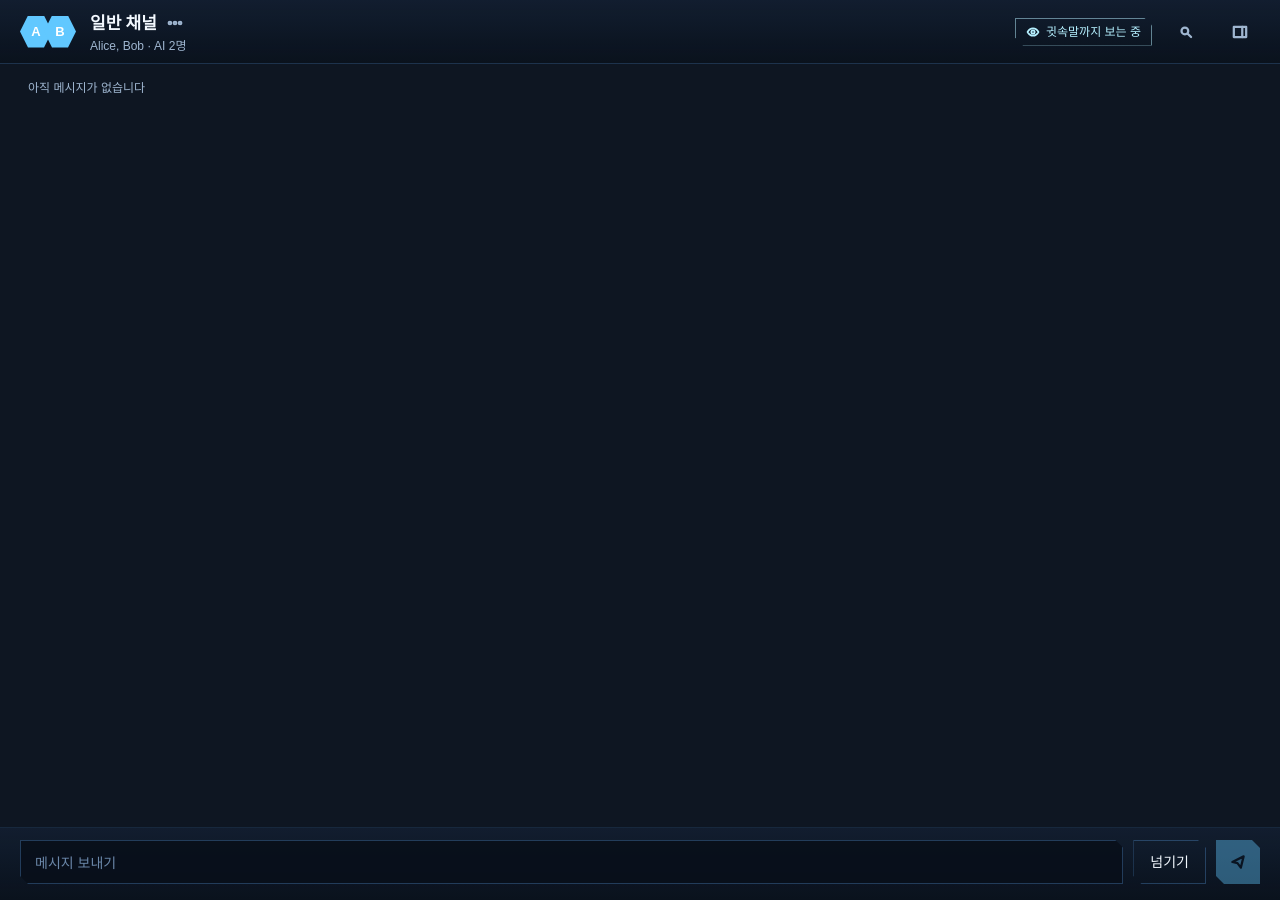
Scenario: pass button (F1) › explains a refusal for a channel without participants (QA m5)
Click the button with test id "chat-pass-turn".
click(1170, 862)  # box [1133, 840, 1206, 884]
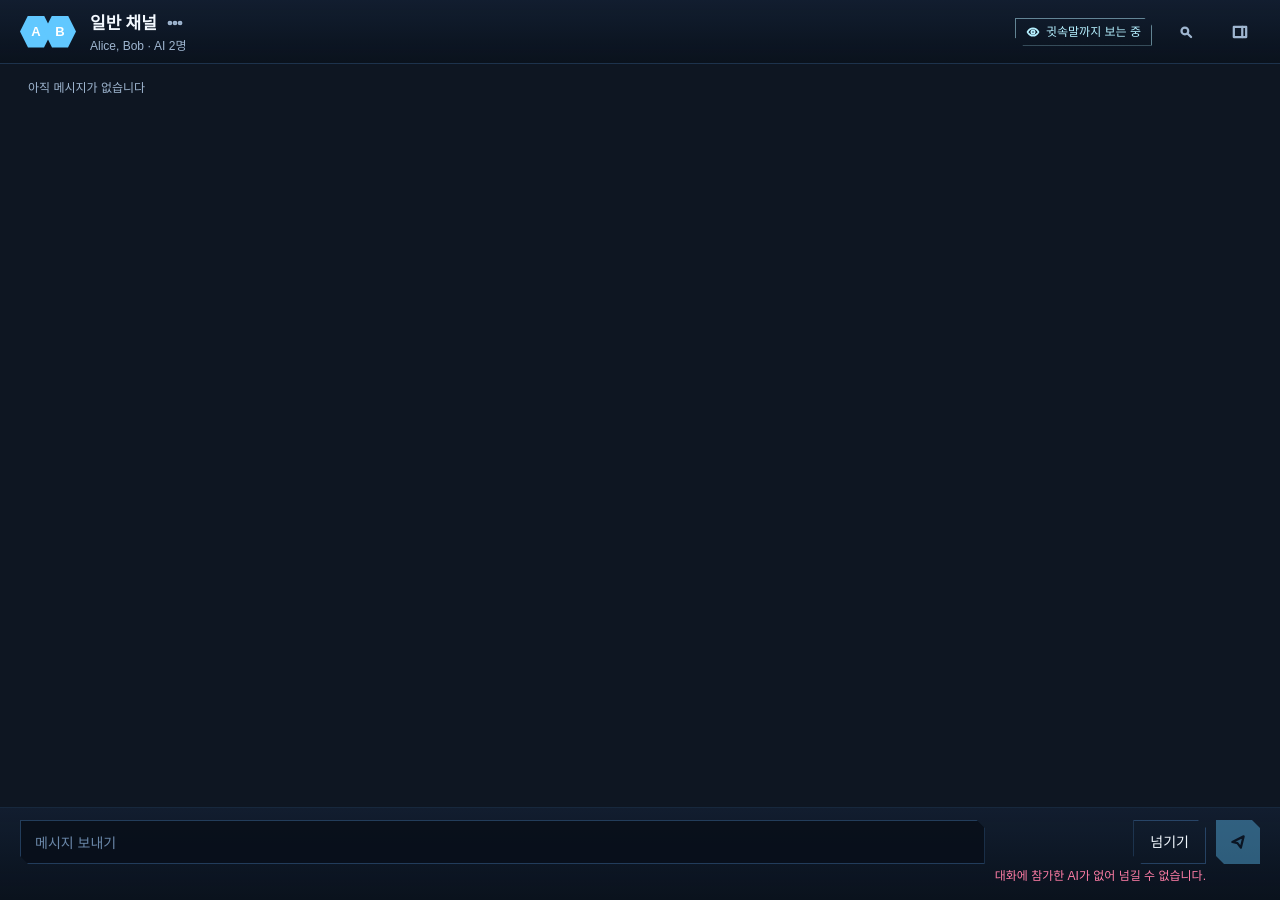
Now the message with test id "chat-pass-turn-error" reads "대화에 참가한 AI가 없어 넘길 수 없습니다.", box [995, 869, 1206, 883]
